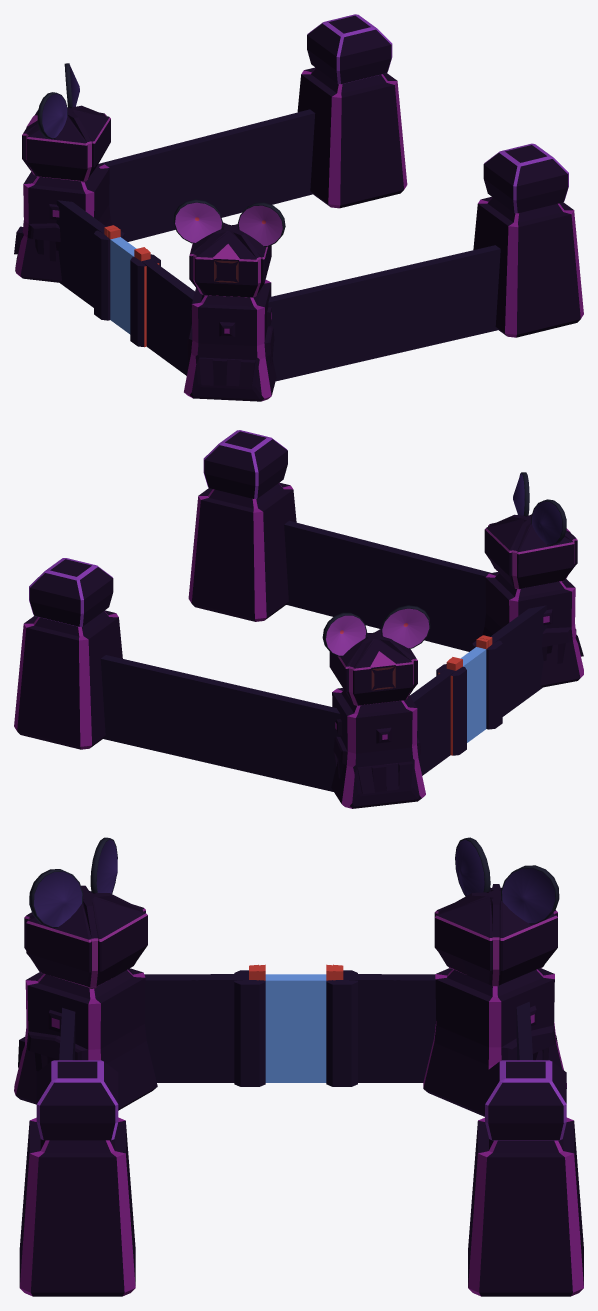
File: MainBase.fbx
The picture shows the model from 3 angles, top to bottom: view 1: azimuth 30°, elevation 25°; view 2: azimuth 150°, elevation 25°; view 3: azimuth 270°, elevation 25°; orthographic projection. The views are drawn at different scales.
Visible parts, largest first — view 1: ShieldPlanks, TowerBaseT3.002, TowerHeadT1, TowerHeadT1.001, TowerEarsT3, Shield; view 2: ShieldPlanks, TowerEarsT3, TowerHeadT1.001, TowerHeadT1, TowerBaseT3.002, Shield; view 3: ShieldPlanks, TowerEarsT3, TowerHeadT1.001, TowerHeadT1, TowerBaseT3.002, Shield.
Boxes of the visible parts, <box> form: ShieldPlanks: <box>56,109,500,381</box>; TowerBaseT3.002: <box>173,199,285,401</box>; TowerHeadT1: <box>297,14,407,208</box>; TowerHeadT1.001: <box>473,143,583,337</box>; TowerEarsT3: <box>14,63,112,282</box>; Shield: <box>110,237,136,334</box>; ShieldPlanks: <box>100,520,546,791</box>; TowerEarsT3: <box>322,605,430,808</box>; TowerHeadT1.001: <box>188,430,296,621</box>; TowerHeadT1: <box>14,558,122,749</box>; TowerBaseT3.002: <box>482,472,583,687</box>; Shield: <box>460,647,486,742</box>; ShieldPlanks: <box>59,964,532,1086</box>; TowerEarsT3: <box>423,837,566,1116</box>; TowerHeadT1.001: <box>19,1060,135,1296</box>; TowerHeadT1: <box>468,1060,583,1296</box>; TowerBaseT3.002: <box>14,837,157,1110</box>; Shield: <box>265,974,326,1082</box>.
Bounding box in the file's own units: 692 × 320 × 702.
